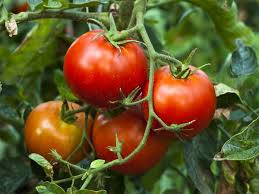tomato: (62, 29, 148, 108), (91, 106, 170, 177), (142, 64, 216, 138), (22, 100, 92, 168)
